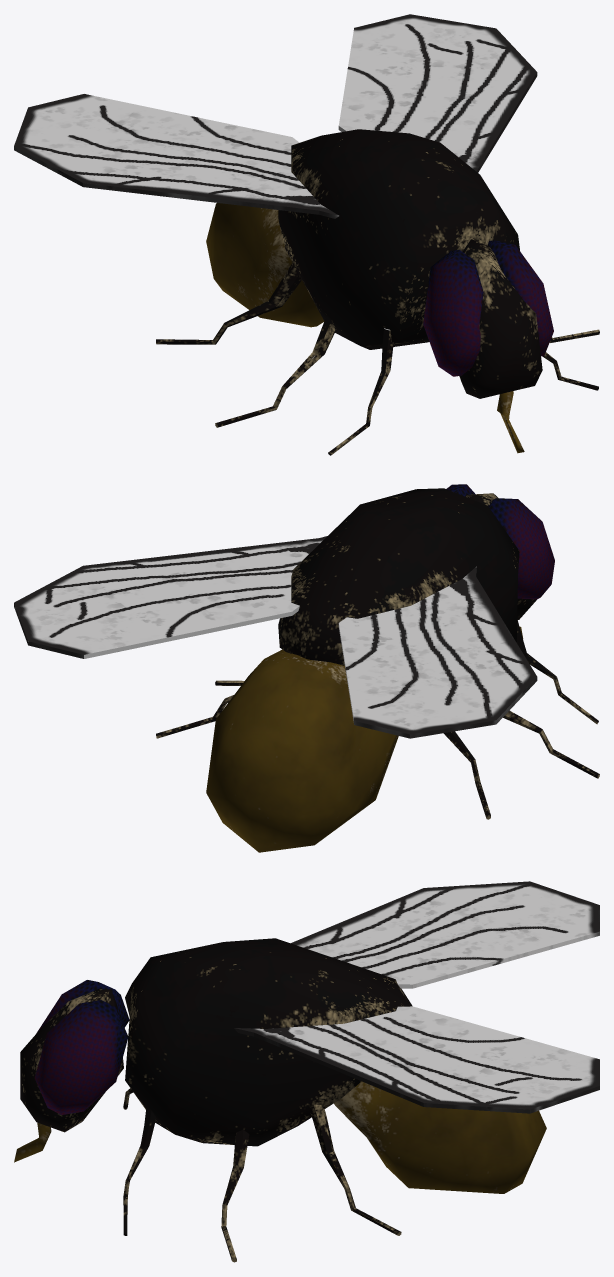
Rendered from low_poly_house_fly_diptera.glb.
3 renders of one model, top to bottom at view 1: azimuth 30°, elevation 25°; view 2: azimuth 150°, elevation 25°; view 3: azimuth 270°, elevation 25°, orthographic. The views are drawn at different scales.
Visible parts, largest first — view 1: Fly.001_0; view 2: Fly.001_0; view 3: Fly.001_0.
Part boxes in pixels (bbox=[...]): Fly.001_0: bbox=[14, 14, 599, 455]; Fly.001_0: bbox=[14, 484, 599, 852]; Fly.001_0: bbox=[14, 881, 599, 1262].
Size of the model in its own units: 0.0146 by 0.00709 by 0.0158.
1 material, 1 textured.
